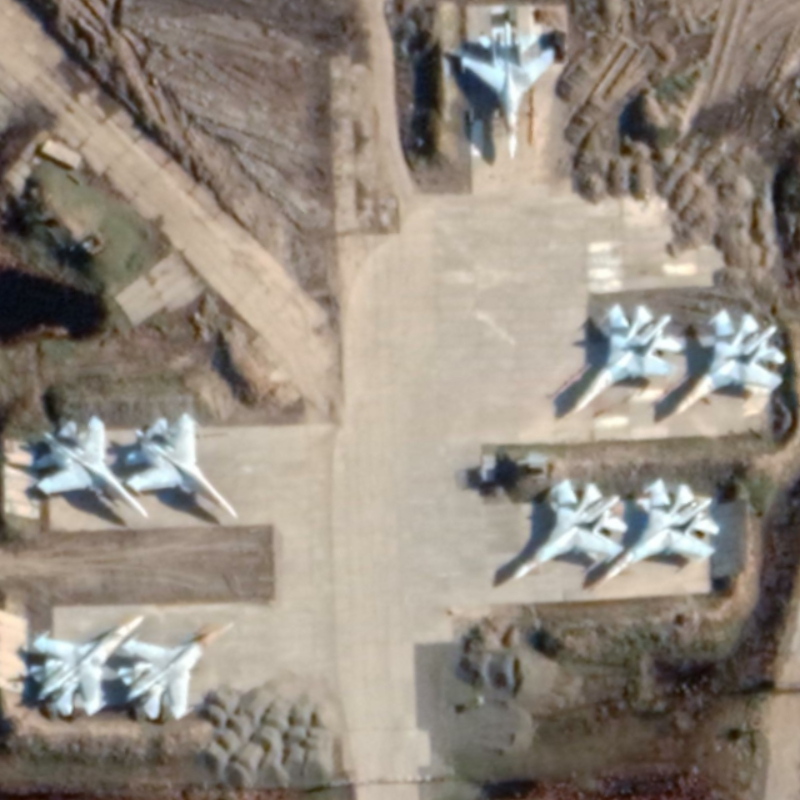A1: (592, 474, 723, 589), (566, 300, 691, 420), (455, 19, 559, 163), (665, 306, 789, 423), (25, 412, 155, 522), (120, 409, 242, 522), (25, 611, 148, 720), (503, 477, 633, 580), (115, 618, 239, 722)
